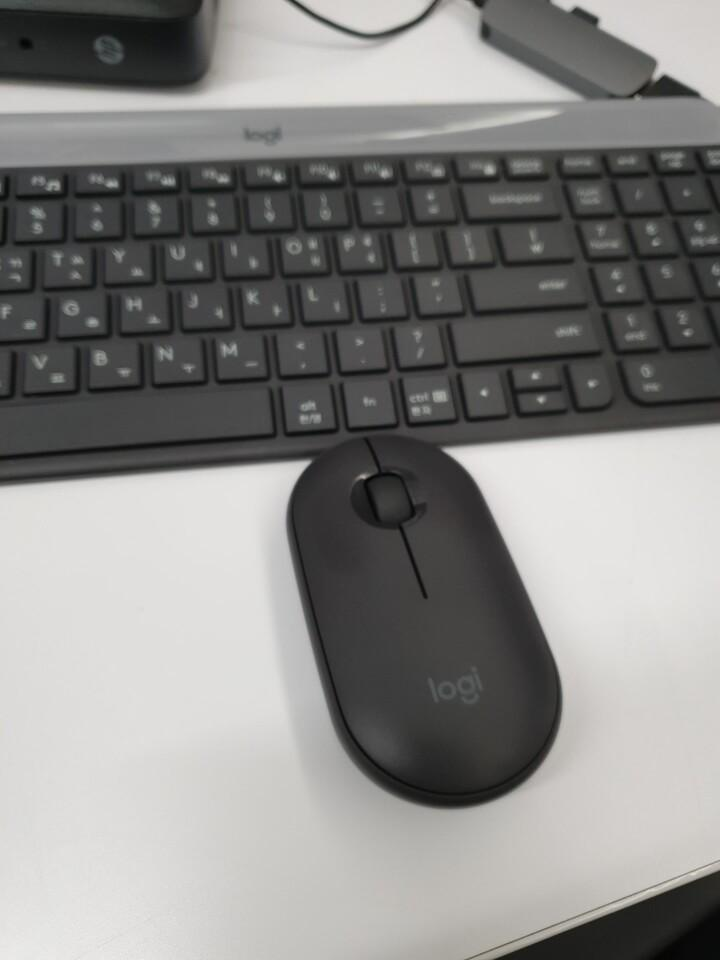keyboard: (0, 97, 719, 484)
mouse: (284, 431, 563, 808)
